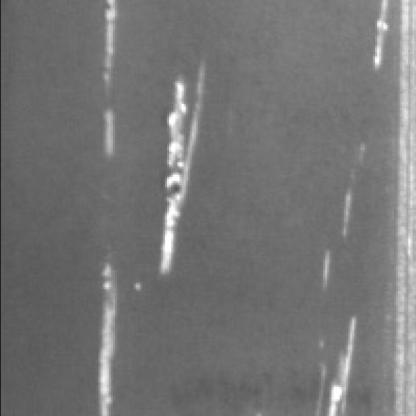scratches: (374, 0, 416, 412), (152, 50, 218, 287), (94, 231, 124, 414), (312, 310, 364, 414), (100, 0, 125, 156)
